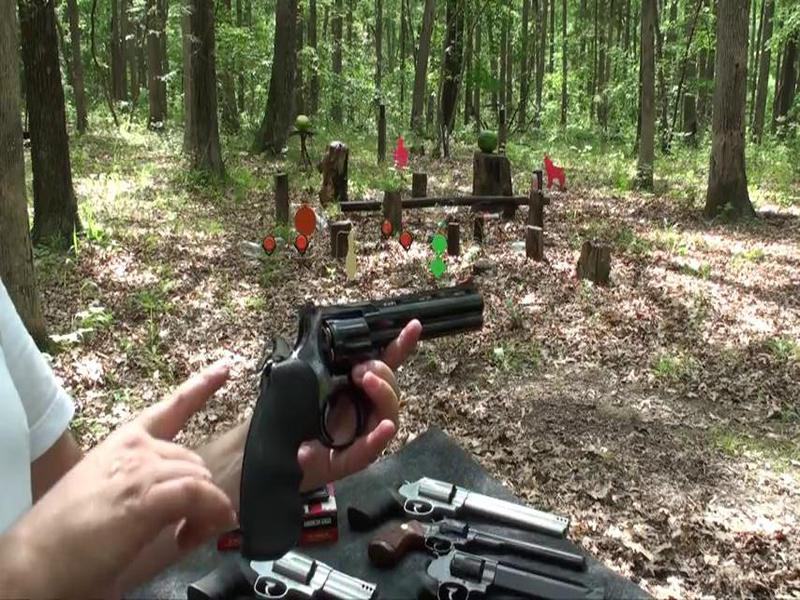Revolver: (222, 276, 500, 555)
